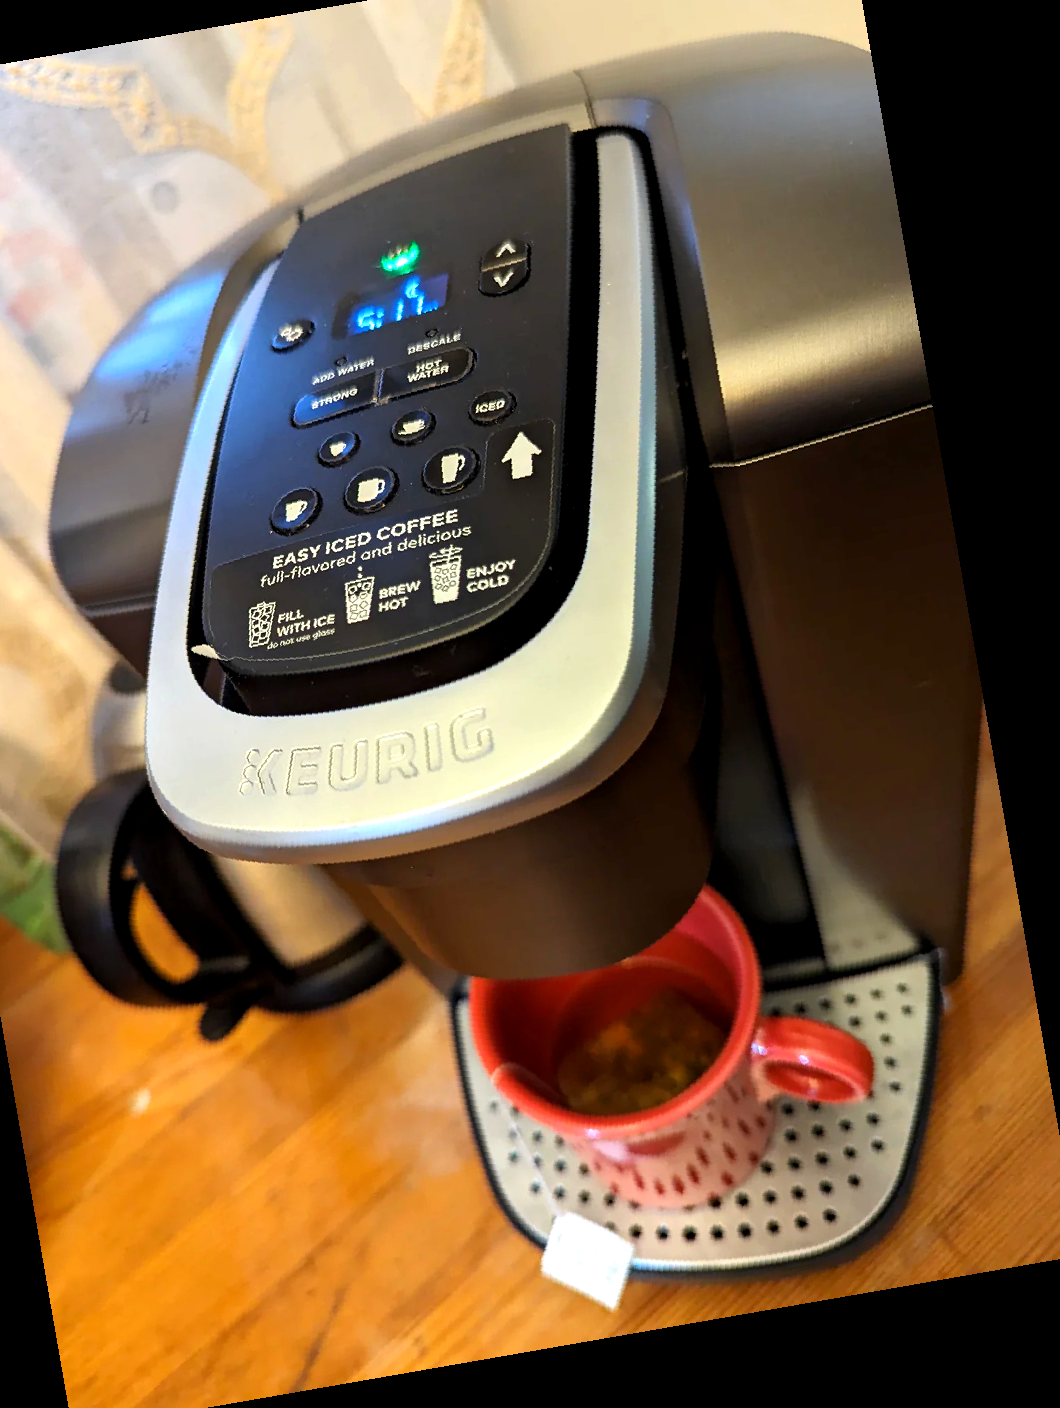10oz: (326, 457, 411, 529)
12oz: (408, 437, 493, 509)
4oz: (302, 421, 372, 477)
6oz: (376, 402, 445, 459)
8oz: (252, 477, 336, 549)
add_water: (292, 329, 374, 393)
coffee_handle: (225, 790, 517, 885)
descale: (379, 307, 479, 371)
hot: (382, 351, 480, 408)
iced: (457, 376, 526, 436)
power: (359, 233, 432, 279)
strong: (285, 376, 383, 434)
